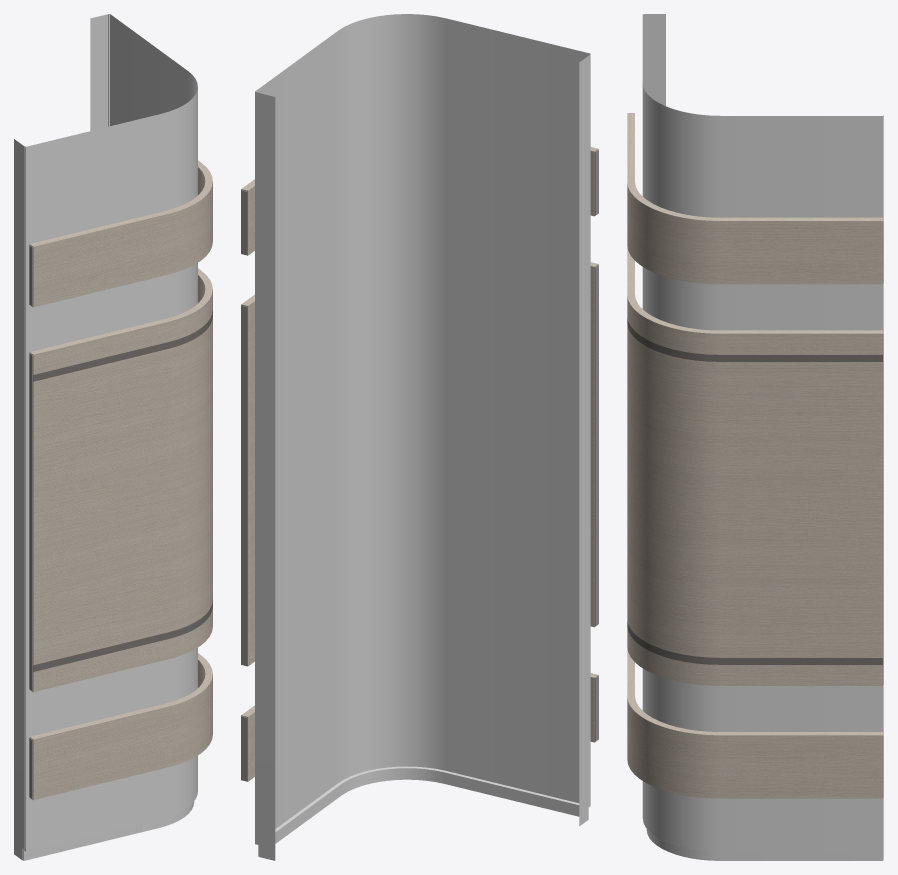
Rendered from MMo_W_001_c_3x3x10.fbx.
3 renders of one model, left to right at view 1: azimuth 30°, elevation 25°; view 2: azimuth 150°, elevation 25°; view 3: azimuth 270°, elevation 25°, orthographic. The views are drawn at different scales.
Visible parts, largest first — view 1: MMo_W_001_c_3x3x10; view 2: MMo_W_001_c_3x3x10; view 3: MMo_W_001_c_3x3x10.
Part boxes in pixels (x1=…): MMo_W_001_c_3x3x10: x1=14, y1=14, x2=212, y2=860; MMo_W_001_c_3x3x10: x1=241, y1=14, x2=598, y2=860; MMo_W_001_c_3x3x10: x1=627, y1=14, x2=883, y2=860.
Bounding box in the file's own units: 3.3 × 10.6 × 3.3.
